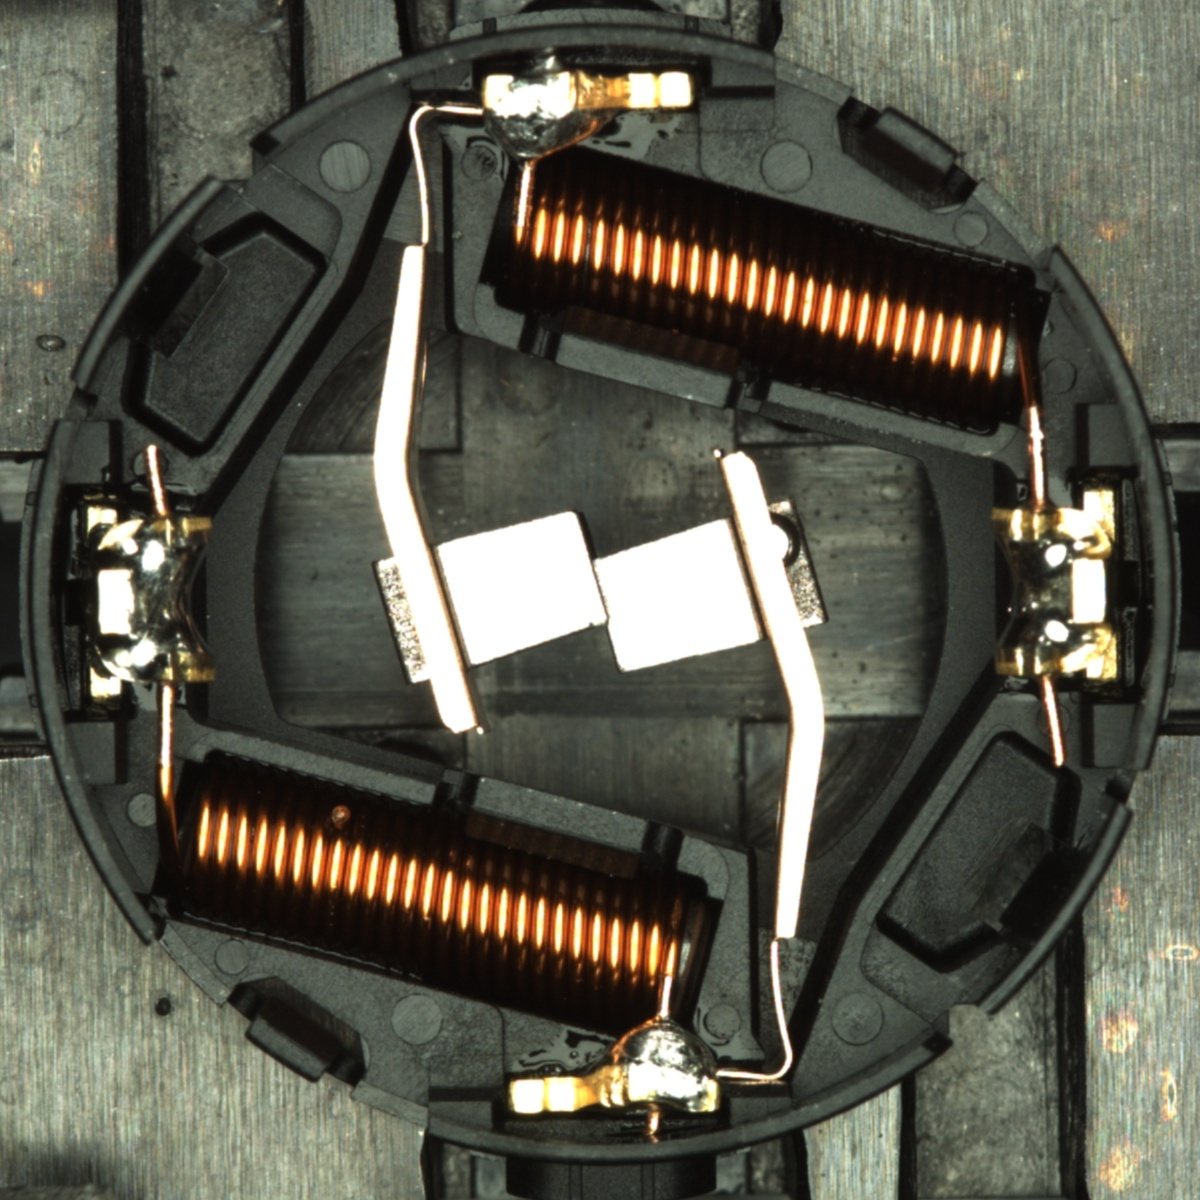1: (258, 55, 487, 279), (716, 953, 945, 1177)
2: (716, 55, 945, 279), (258, 953, 487, 1177)
3: (29, 279, 258, 503), (945, 729, 1175, 953)
4: (258, 279, 487, 503), (716, 729, 945, 953)
5: (487, 167, 716, 391), (487, 841, 716, 1065)
6: (716, 279, 945, 503), (258, 729, 487, 953)
7: (945, 279, 1175, 503), (29, 729, 258, 953)
chau_dien: (984, 488, 1124, 687), (81, 499, 220, 699)
hat_chi: (766, 513, 802, 569)
tay_choi: (481, 66, 698, 165), (508, 1016, 721, 1116)
thanh_de: (953, 787, 1140, 1031), (58, 164, 245, 405)
